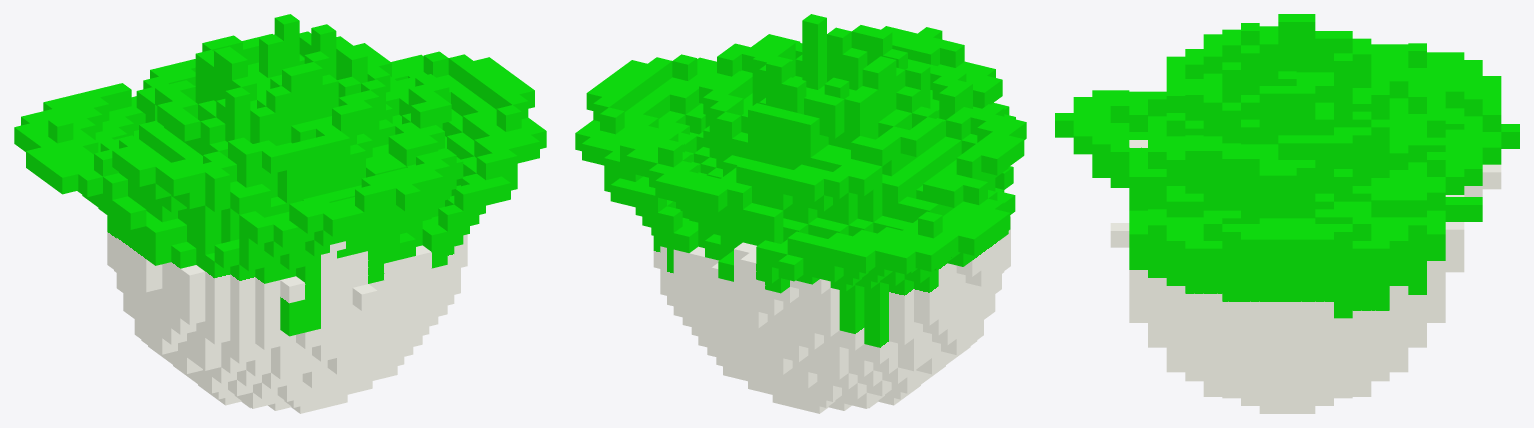
3 renders of one model, left to right at view 1: azimuth 30°, elevation 25°; view 2: azimuth 150°, elevation 25°; view 3: azimuth 270°, elevation 25°, orthographic. The views are drawn at different scales.
Parts seen in each view (by area): view 1: Object; view 2: Object; view 3: Object.
Boxes of the visible parts, x1,y1,x2,y2 form: Object: (14,14,546,413); Object: (575,14,1026,413); Object: (1055,14,1519,413).
Size of the model in its own units: 27 by 22 by 25.
Materials: 1 (1 with a texture image).
